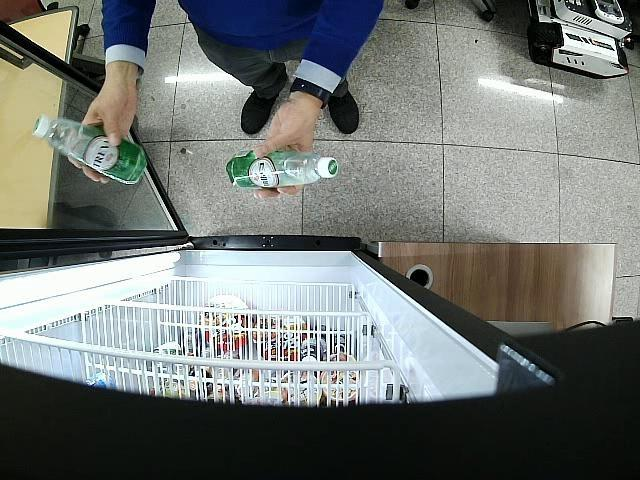18_trevi: (34, 114, 146, 184), (226, 150, 338, 186)
